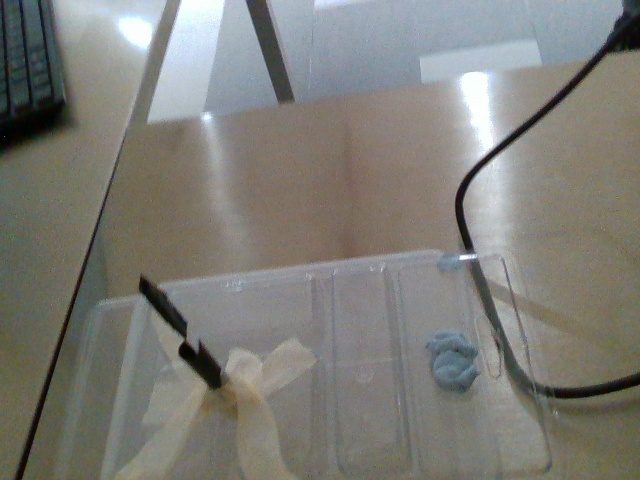test_strip: (133, 272, 196, 352)
